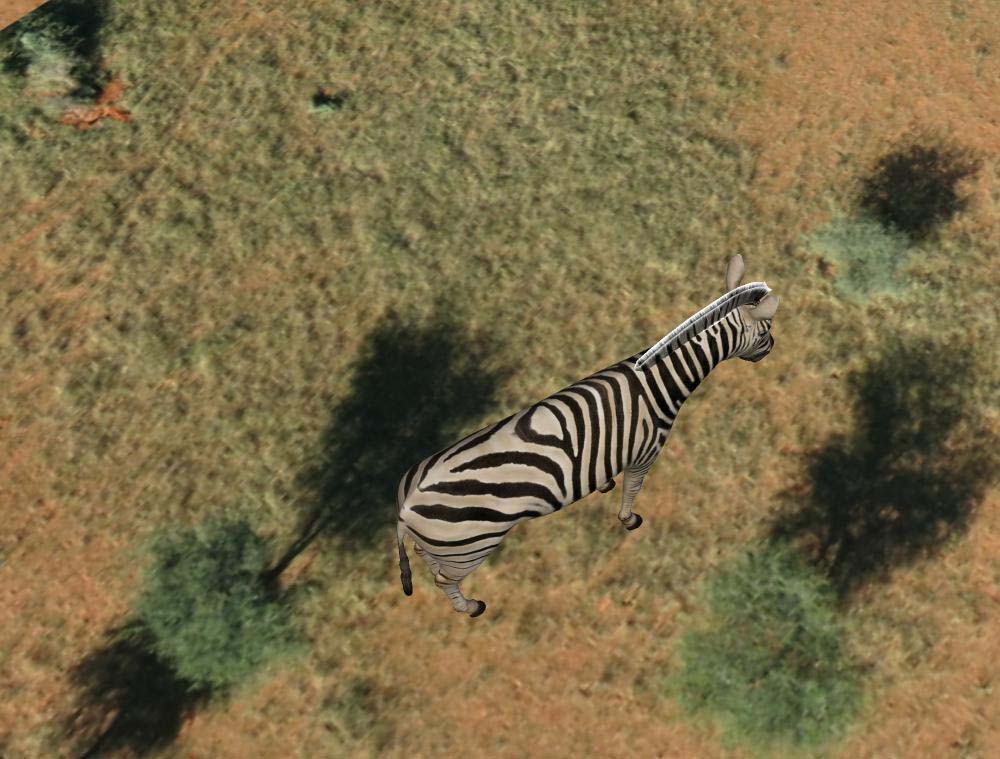zebra: (396, 270, 779, 623)
